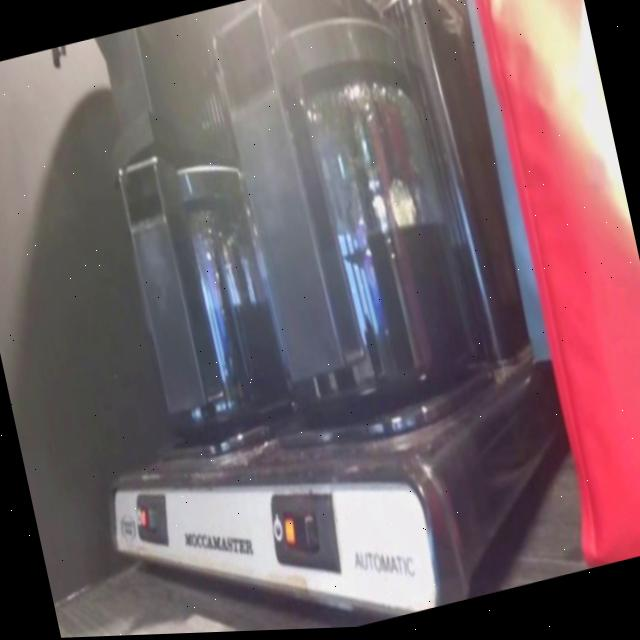coffee: (242, 77, 480, 427), (128, 208, 288, 438)
